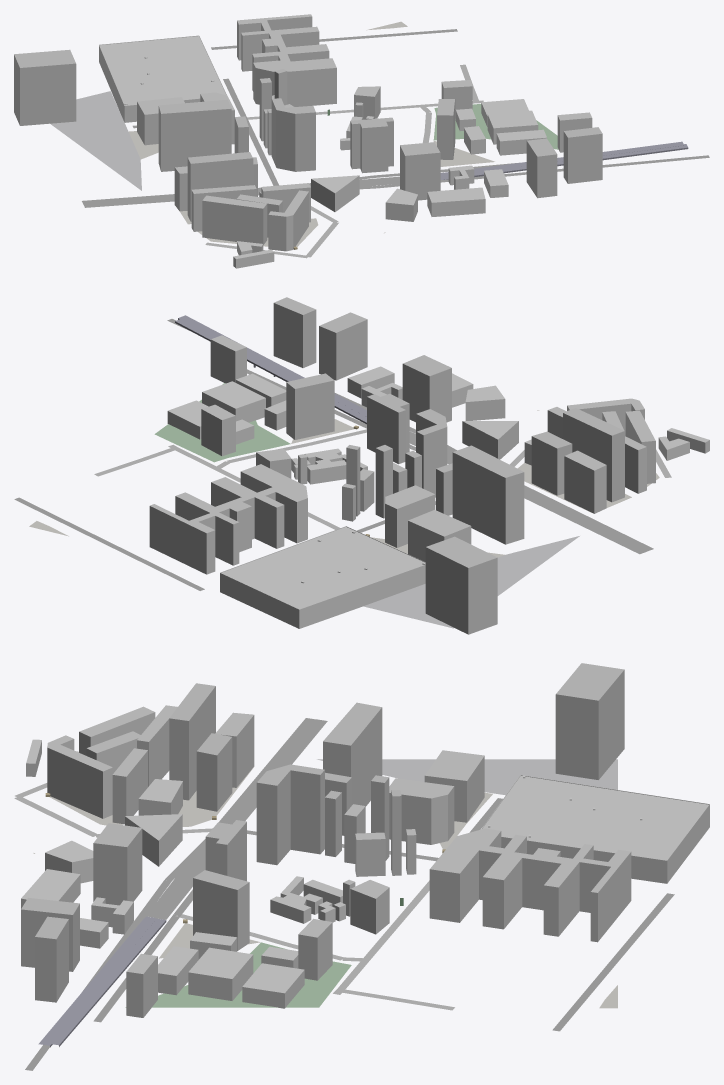
The picture shows the model from 3 angles, top to bottom: view 1: azimuth 30°, elevation 25°; view 2: azimuth 150°, elevation 25°; view 3: azimuth 270°, elevation 25°; orthographic projection. The views are drawn at different scales.
Bounding box in the file's own units: 709 × 78.23 × 595.
